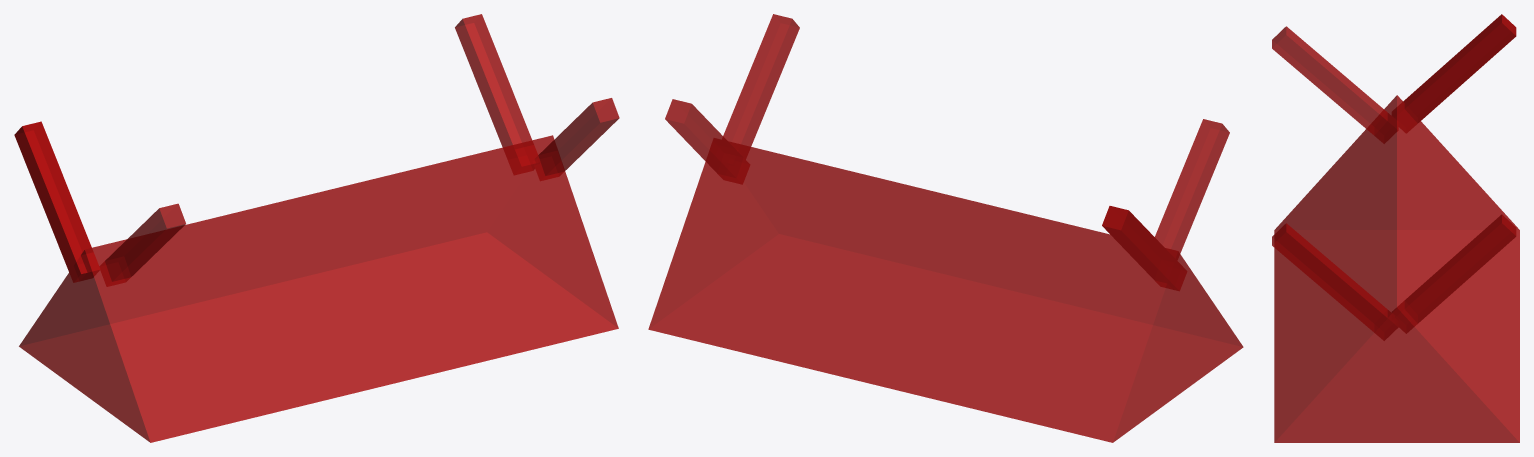
File: SM_Prop_Fence_03_Collision.fbx
3 renders of one model, left to right at view 1: azimuth 30°, elevation 25°; view 2: azimuth 150°, elevation 25°; view 3: azimuth 270°, elevation 25°, orthographic. The views are drawn at different scales.
Visible parts, largest first — view 1: SM_Prop_Fence_03_Collision; view 2: SM_Prop_Fence_03_Collision; view 3: SM_Prop_Fence_03_Collision.
Part boxes in pixels (<box>): SM_Prop_Fence_03_Collision: <box>14,14,619,442</box>; SM_Prop_Fence_03_Collision: <box>648,14,1243,442</box>; SM_Prop_Fence_03_Collision: <box>1272,14,1519,442</box>.
Bounding box in the file's own units: 241 × 111 × 117.
